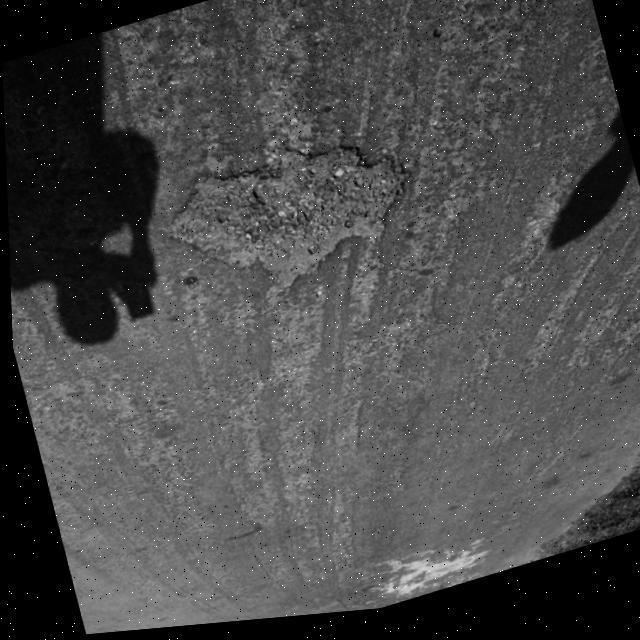pothole: (148, 117, 428, 336)
